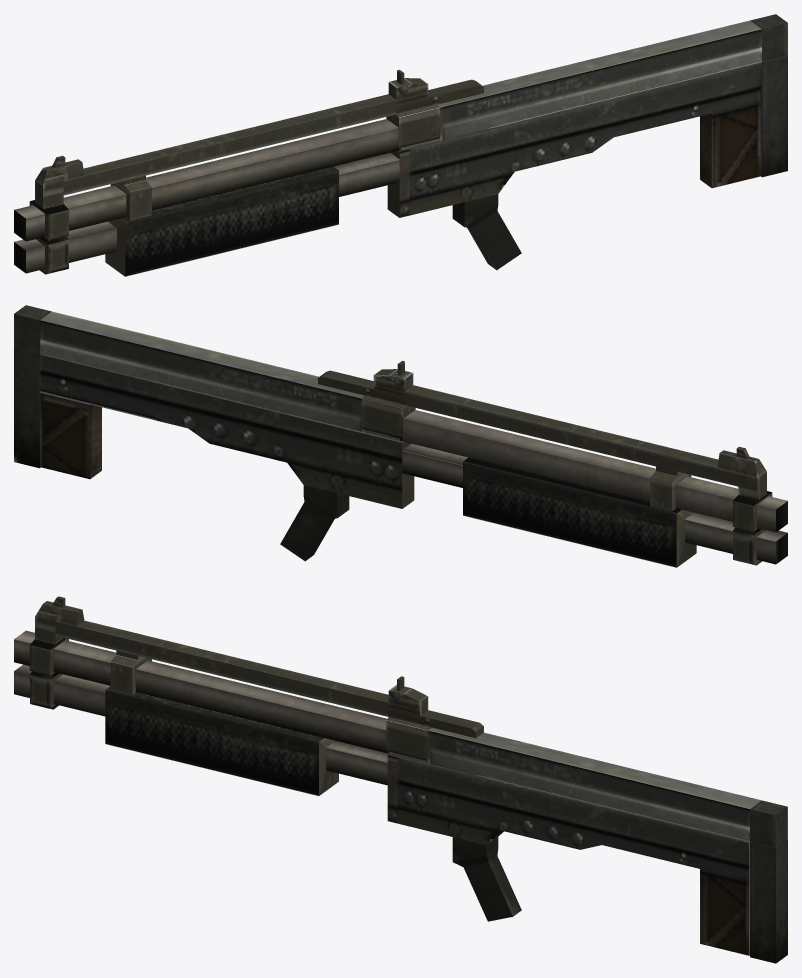
Rendered from Shotgun.fbx.
3 renders of one model, top to bottom at view 1: azimuth 30°, elevation 25°; view 2: azimuth 150°, elevation 25°; view 3: azimuth 330°, elevation 25°, orthographic.
Parts seen in each view (by area): view 1: Cube.001, Cube, Cube.002; view 2: Cube.001, Cube, Cube.002; view 3: Cube.001, Cube, Cube.002.
Part boxes in pixels (bbox=[...]): Cube.001: bbox=[14, 62, 761, 276]; Cube: bbox=[14, 14, 787, 241]; Cube.002: bbox=[29, 69, 483, 274]; Cube.001: bbox=[40, 353, 787, 567]; Cube: bbox=[14, 305, 787, 532]; Cube.002: bbox=[318, 360, 772, 565]; Cube.001: bbox=[14, 664, 749, 955]; Cube: bbox=[14, 630, 787, 963]; Cube.002: bbox=[29, 596, 483, 760].
Bounding box in the file's own units: 340 × 92.86 × 15.33.
